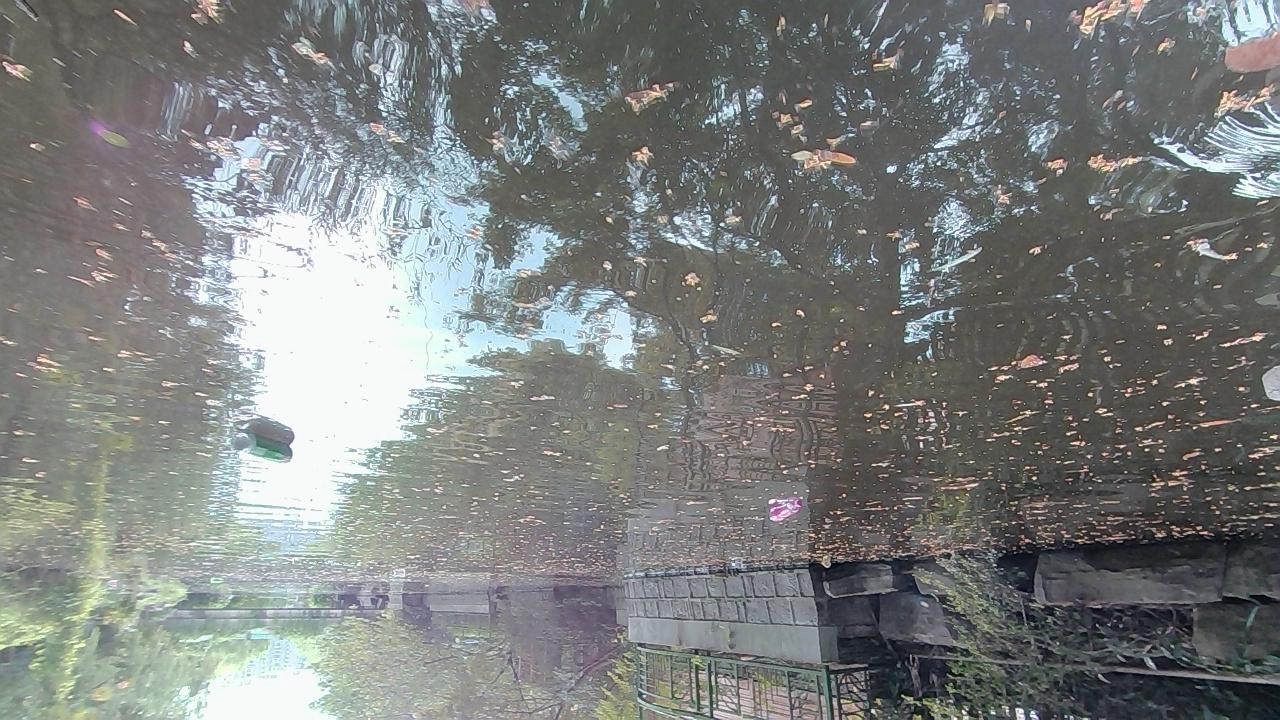Metal: (230, 431, 294, 465)
Plastic: (768, 500, 803, 523)
